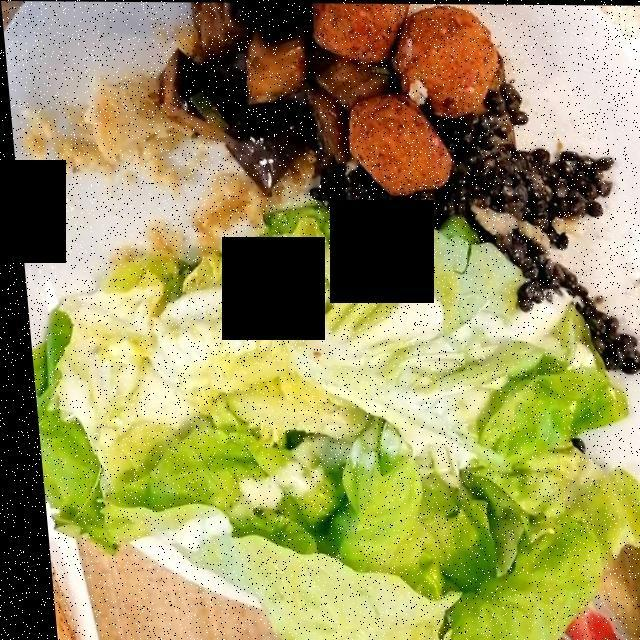eggplant: (148, 6, 378, 183)
falafel-balls: (310, 7, 491, 190)
salad: (49, 208, 640, 628), (224, 250, 605, 507)
